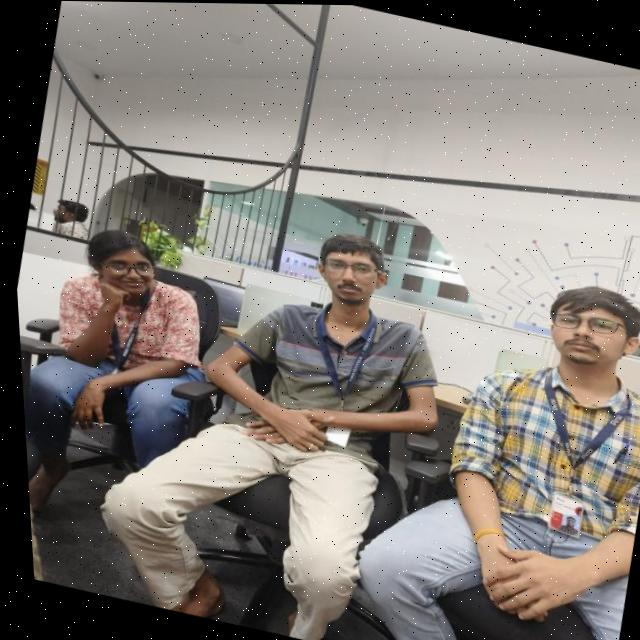id_card: (497, 350, 636, 542), (281, 301, 394, 460)
